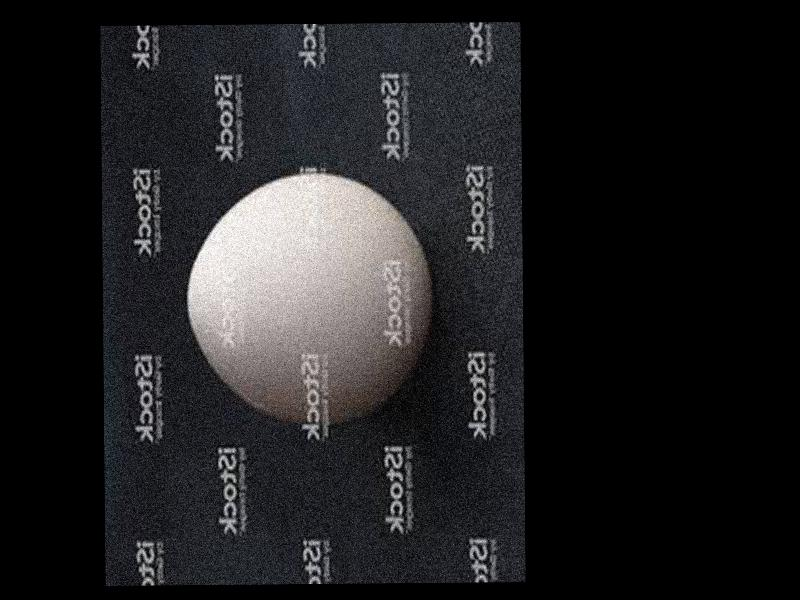Eggs: (186, 172, 434, 426)
